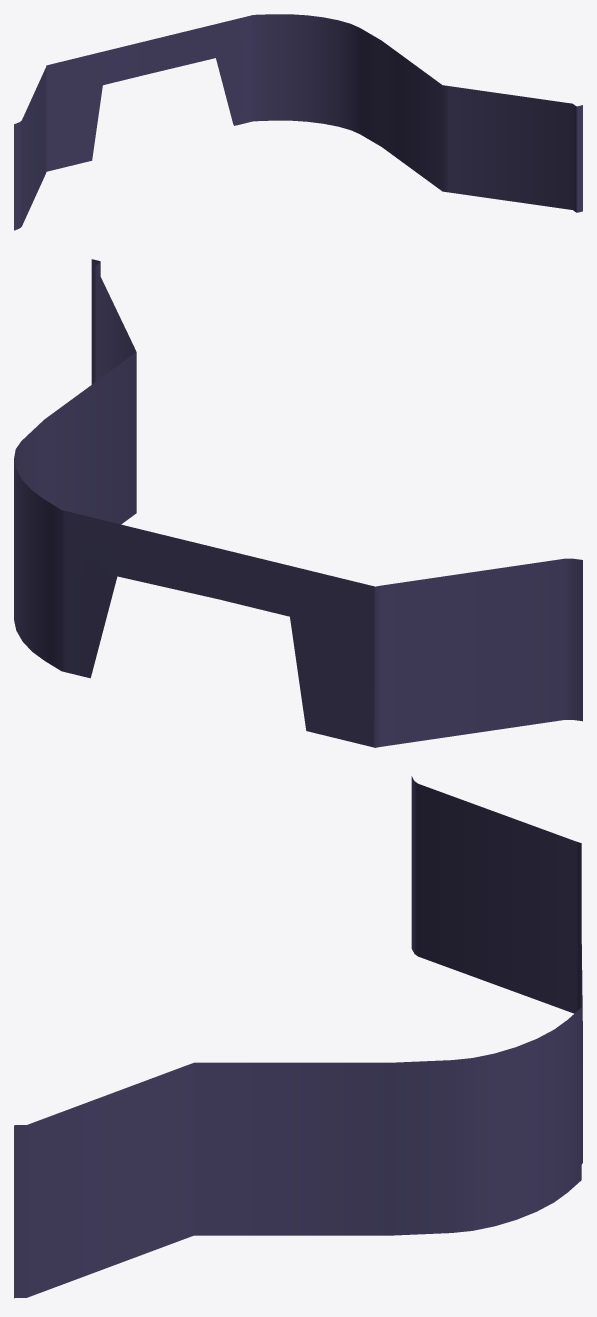
File: Mh_MidWall_01.fbx
The picture shows the model from 3 angles, top to bottom: view 1: azimuth 30°, elevation 25°; view 2: azimuth 150°, elevation 25°; view 3: azimuth 270°, elevation 25°; orthographic projection. The views are drawn at different scales.
Parts seen in each view (by area): view 1: Mh_MidWall_01; view 2: Mh_MidWall_01; view 3: Mh_MidWall_01.
Boxes of the visible parts, x1,y1,x2,y2 form: Mh_MidWall_01: (14,14,582,230); Mh_MidWall_01: (14,259,582,747); Mh_MidWall_01: (14,776,582,1298).
Bounding box in the file's own units: 1809 × 412 × 1228.
